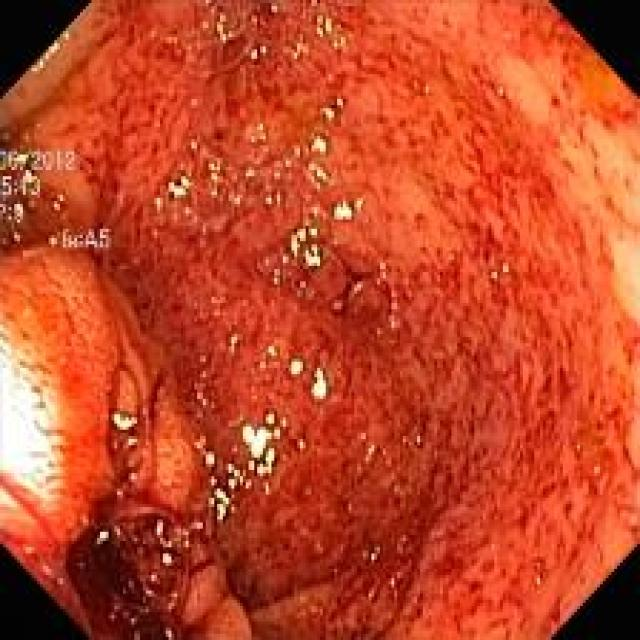ulcerative-colitis-grade-2-3: (2, 3, 639, 640)
